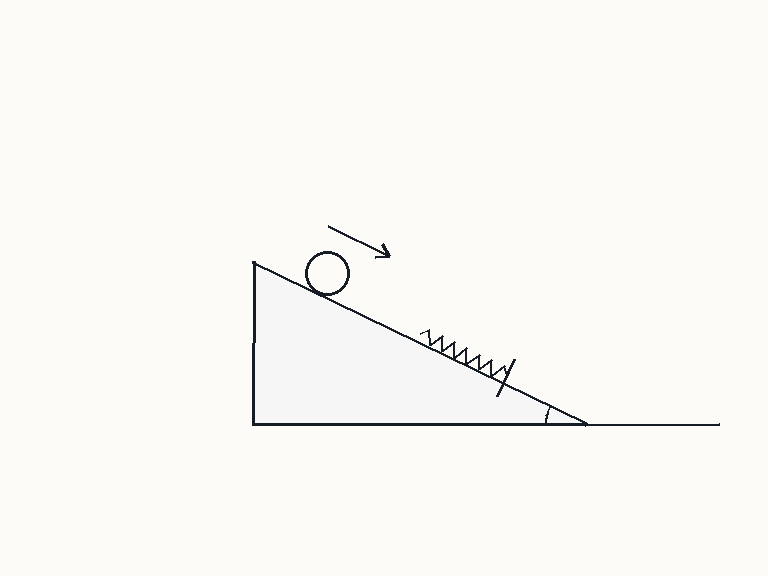ball: (303, 249, 351, 297)
ramp: (251, 260, 588, 426)
spring: (418, 328, 509, 378)
